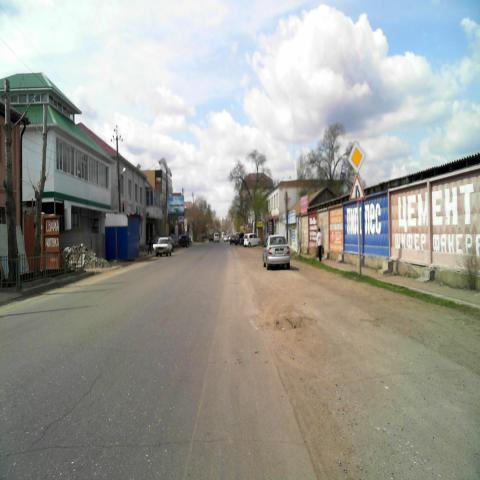1_20_2: (348, 175, 365, 201)
